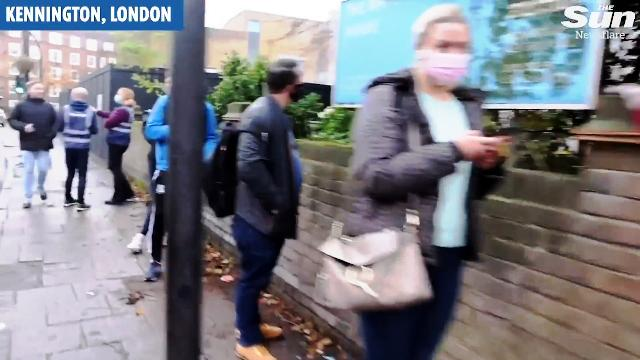berdiri: (352, 4, 506, 360), (225, 43, 317, 351)
